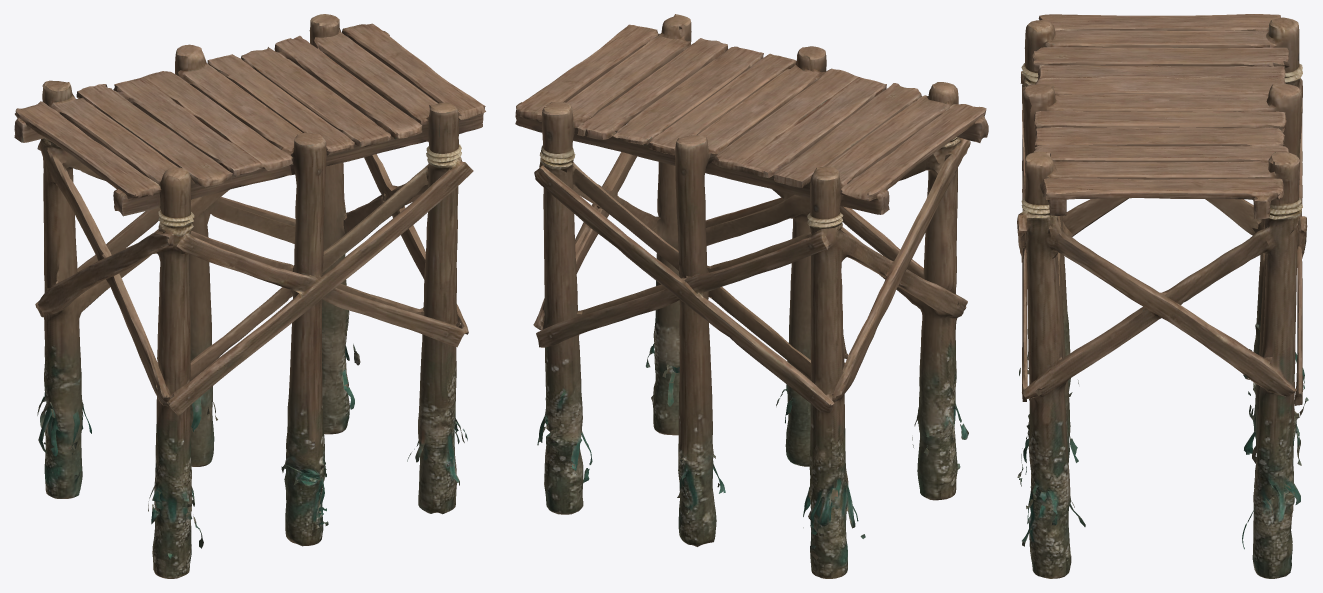
The model's file is tidewake_pier_module.glb.
3 views of the same model, side by side, from view 1: azimuth 30°, elevation 25°; view 2: azimuth 150°, elevation 25°; view 3: azimuth 270°, elevation 25° (orthographic). The views are drawn at different scales.
Parts seen in each view (by area): view 1: Mesh_0; view 2: Mesh_0; view 3: Mesh_0.
Part boxes in pixels (left/top/right/bottom): Mesh_0: left=14, top=14, right=485, bottom=578; Mesh_0: left=515, top=14, right=988, bottom=578; Mesh_0: left=1017, top=14, right=1308, bottom=578.
Size of the model in its own units: 1.8 by 1.9 by 1.2.
Materials: 1 (1 with a texture image).
